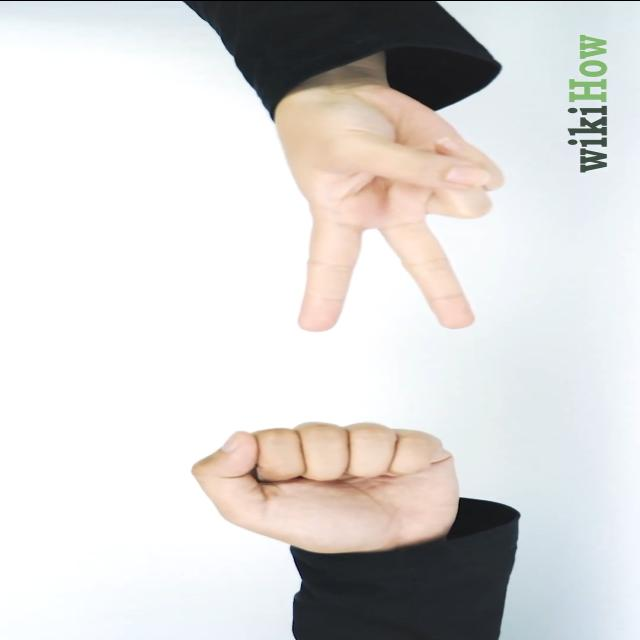Rock: (188, 418, 464, 554)
Scissors: (274, 82, 504, 334)
